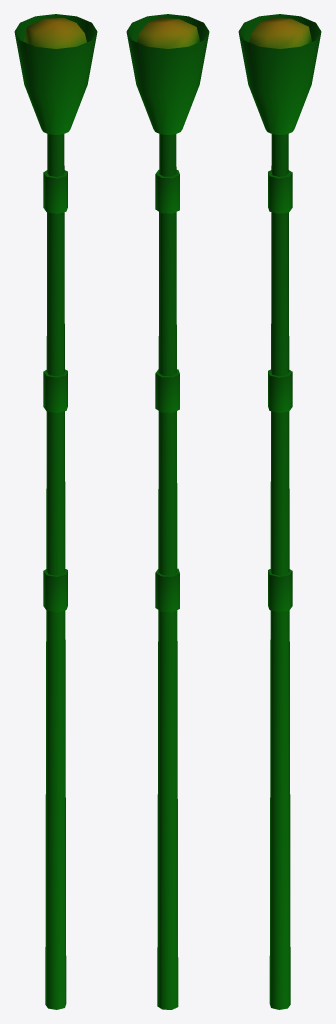
Rendered from stillguard_torch.glb.
3 renders of one model, left to right at view 1: azimuth 30°, elevation 25°; view 2: azimuth 150°, elevation 25°; view 3: azimuth 330°, elevation 25°, orthographic.
Visible parts, largest first — view 1: stillguard_torch; view 2: stillguard_torch; view 3: stillguard_torch.
Boxes of the visible parts, left/top/right/bottom form: stillguard_torch: left=14, top=14, right=97, bottom=1009; stillguard_torch: left=126, top=14, right=209, bottom=1009; stillguard_torch: left=238, top=14, right=321, bottom=1009.
Size of what is drawn, in the model's own units: 0.17 by 2.22 by 0.17.
